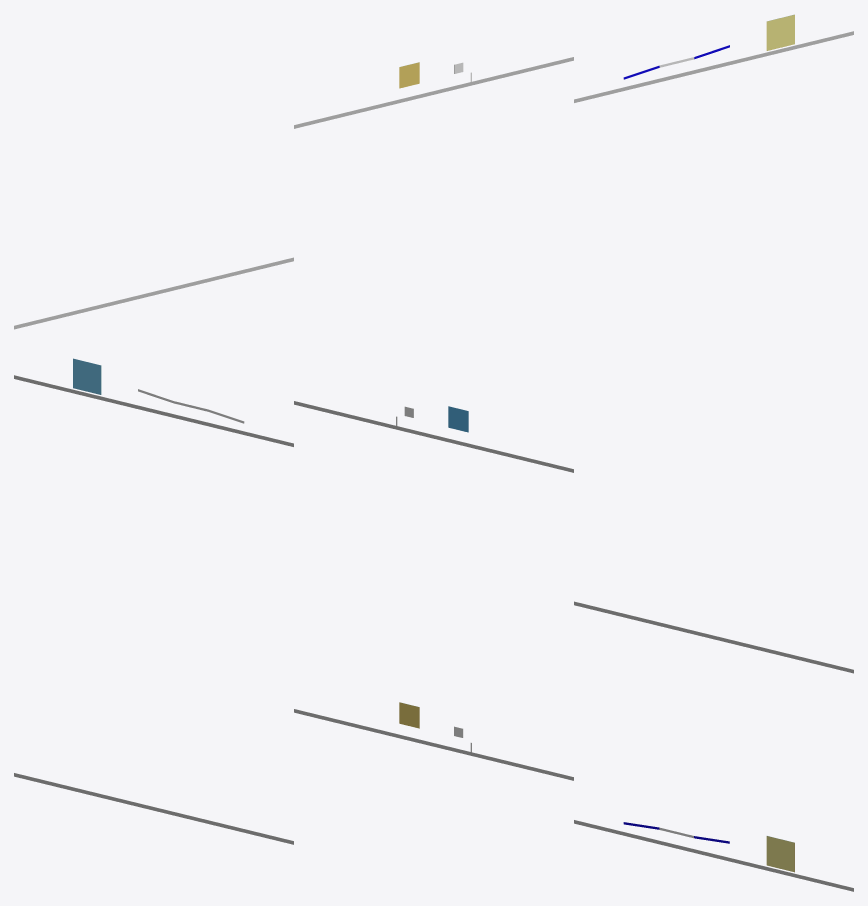
Rendered from TestLevel-Camera.glb.
The picture shows the model from 3 angles, top to bottom: view 1: azimuth 30°, elevation 25°; view 2: azimuth 150°, elevation 25°; view 3: azimuth 330°, elevation 25°; orthographic projection.
Parts seen in each view (by area): view 1: Platform (×3), Teleporter; view 2: Platform (×3), Teleporter; view 3: Platform (×3), Teleporter, CameraSensor.
Part boxes in pixels (bbox=[...]): Platform (×3): bbox=[14, 31, 853, 329]; Teleporter: bbox=[766, 14, 794, 50]; Platform (×3): bbox=[14, 375, 853, 673]; Teleporter: bbox=[73, 358, 101, 394]; Platform (×3): bbox=[14, 709, 853, 891]; Teleporter: bbox=[766, 836, 794, 872]; CameraSensor: bbox=[399, 702, 419, 728].
Bounding box in the file's own units: 375 × 71.81 × 0.125.
7 materials, 3 textured.
